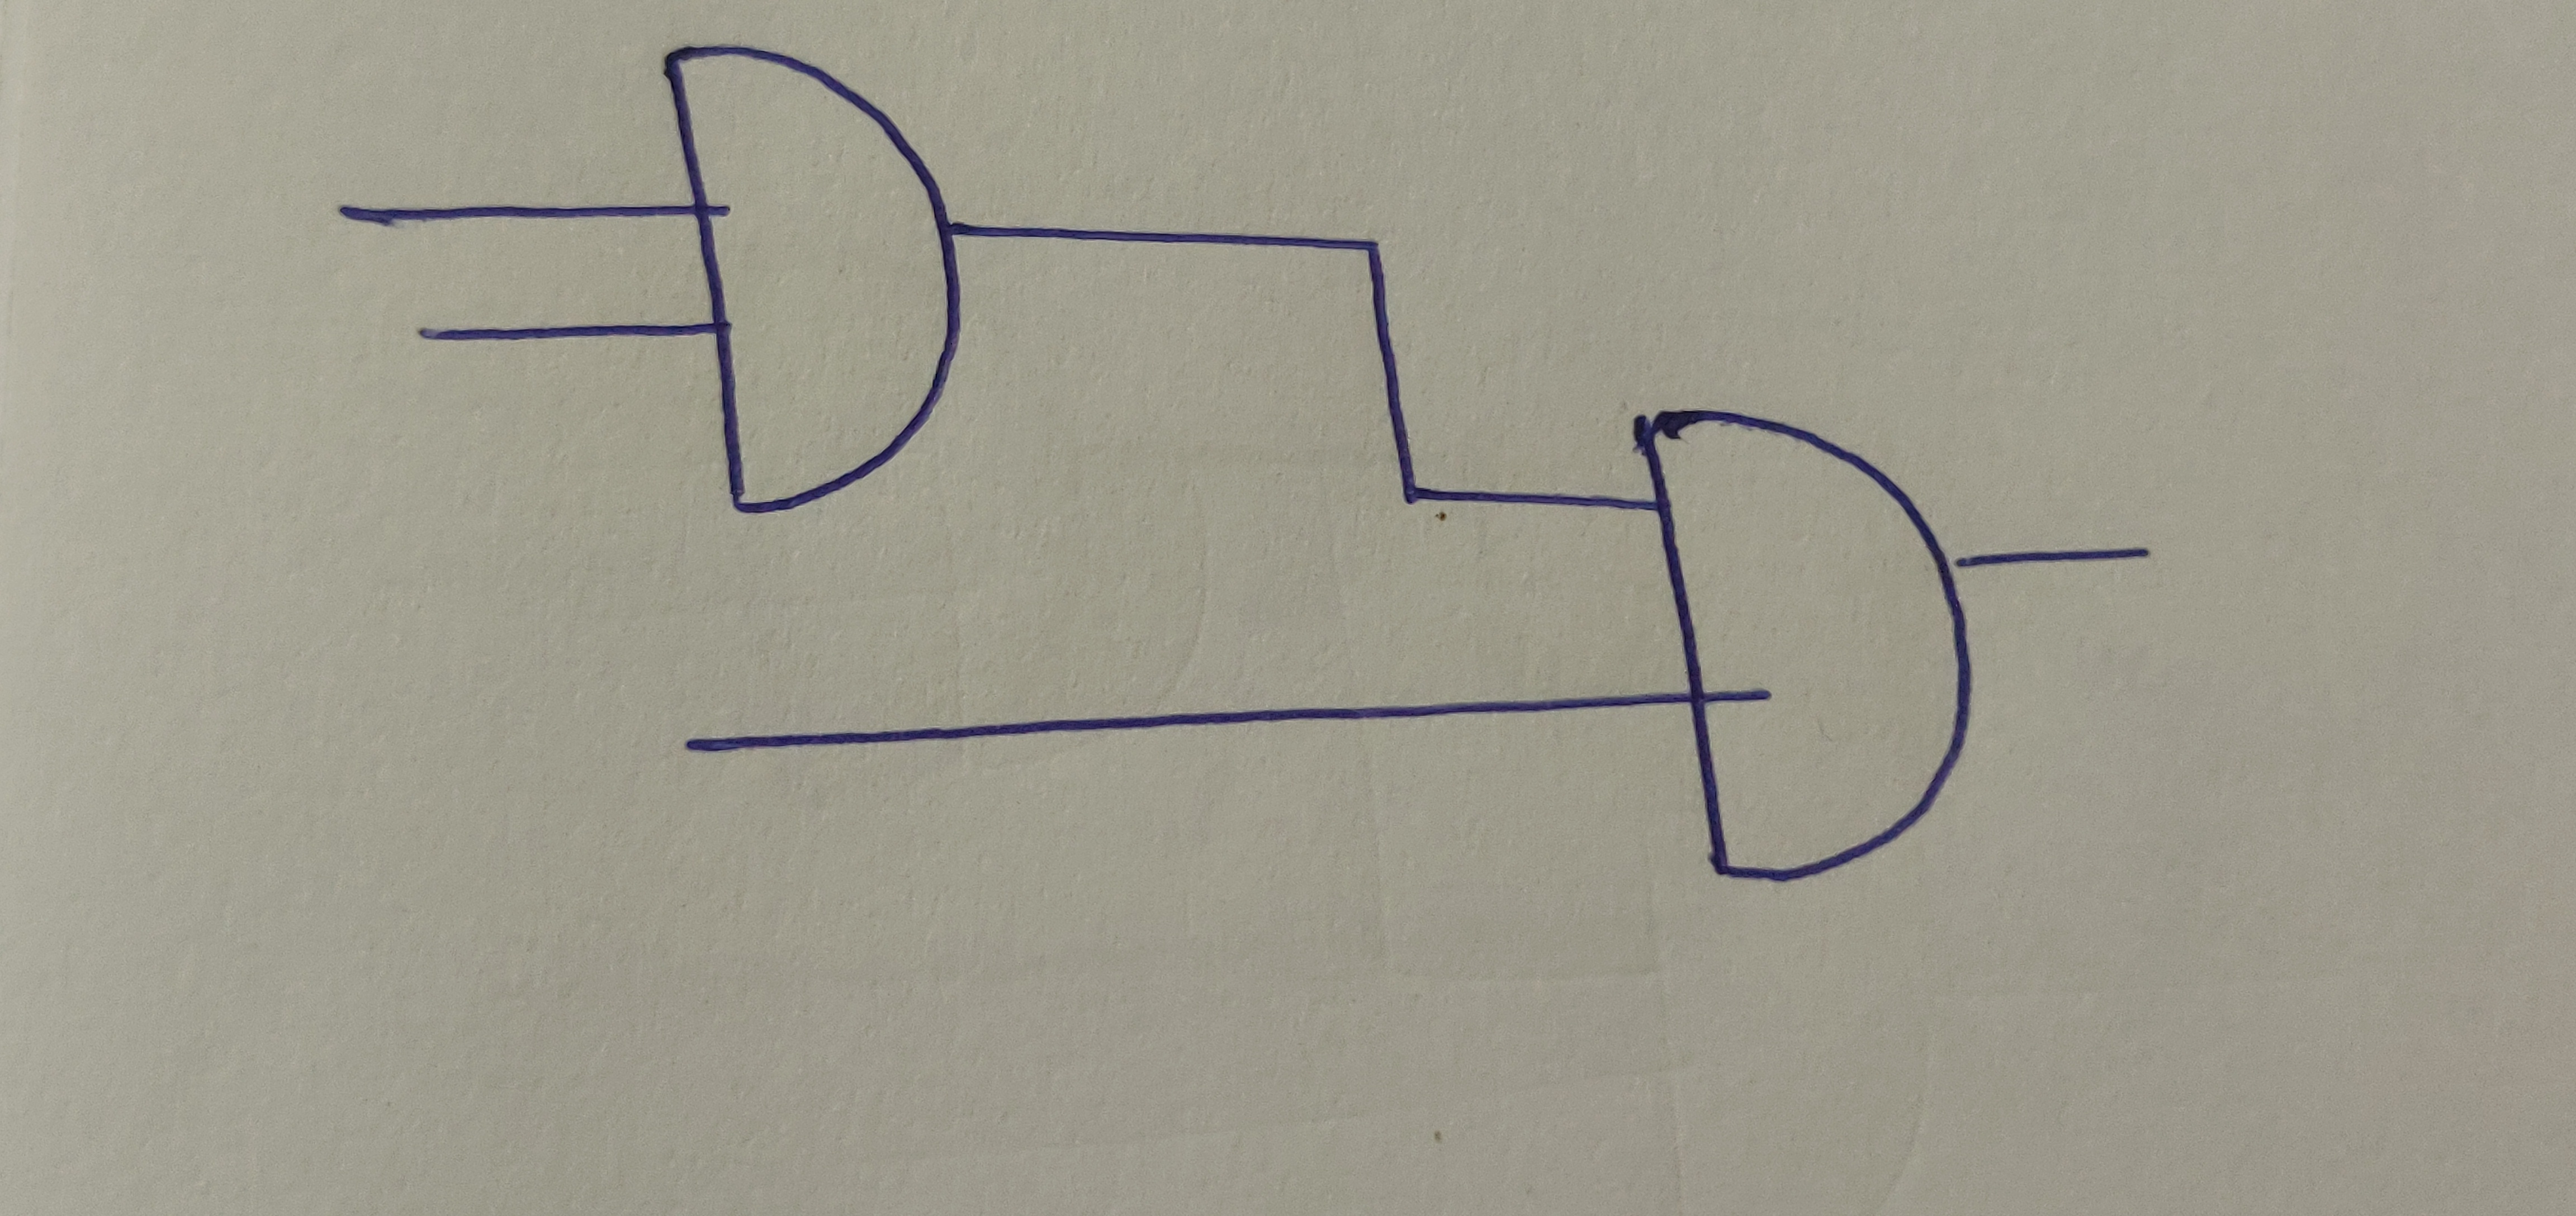and: (1631, 404, 1976, 886), (662, 38, 966, 519)
